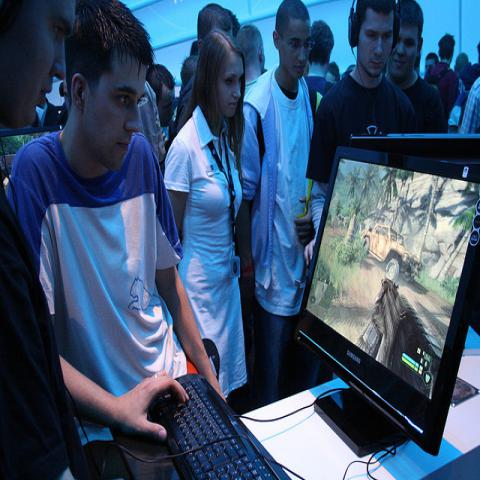truck: (361, 222, 424, 283)
